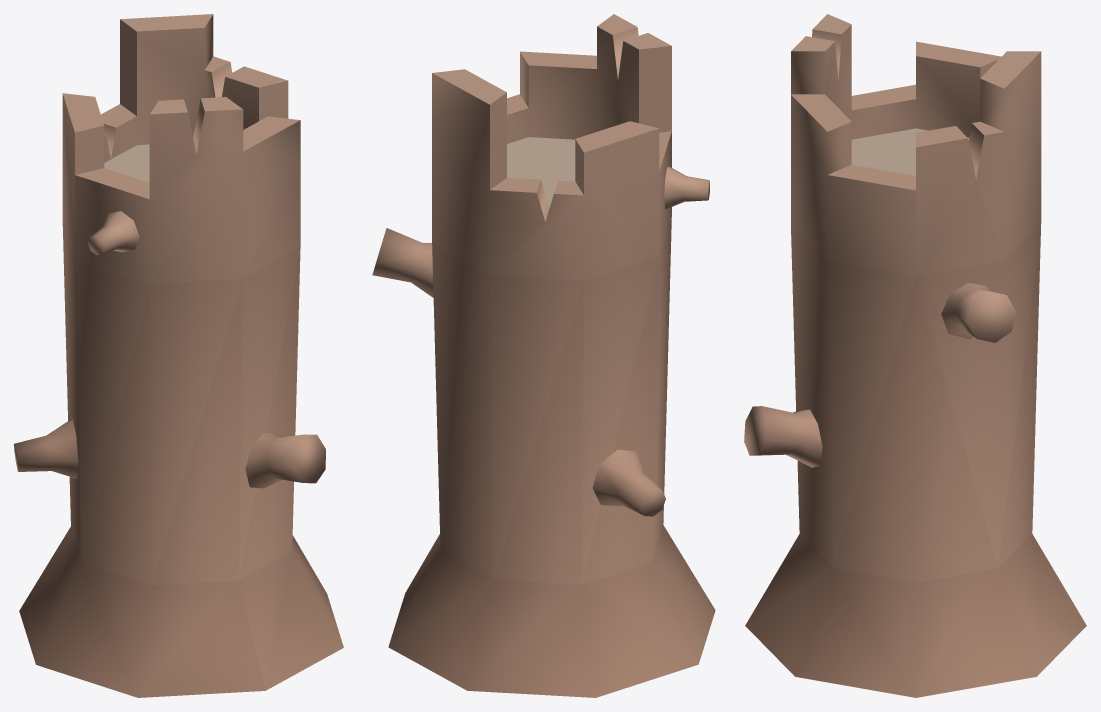
File: kgy_trunk-long.fbx
3 renders of one model, left to right at view 1: azimuth 30°, elevation 25°; view 2: azimuth 150°, elevation 25°; view 3: azimuth 270°, elevation 25°, orthographic.
Visible parts, largest first — view 1: trunk-long; view 2: trunk-long; view 3: trunk-long.
Boxes of the visible parts, box(x1,y1,x2,y2) form: trunk-long: box(14, 14, 343, 697); trunk-long: box(372, 14, 715, 697); trunk-long: box(744, 14, 1086, 697).
Bounding box in the file's own units: 53.93 × 100 × 54.09.
